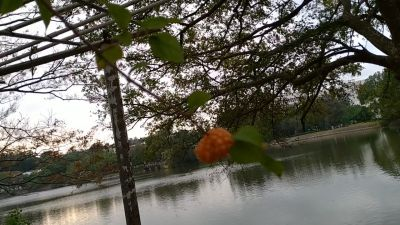eggs: (194, 125, 234, 166)
